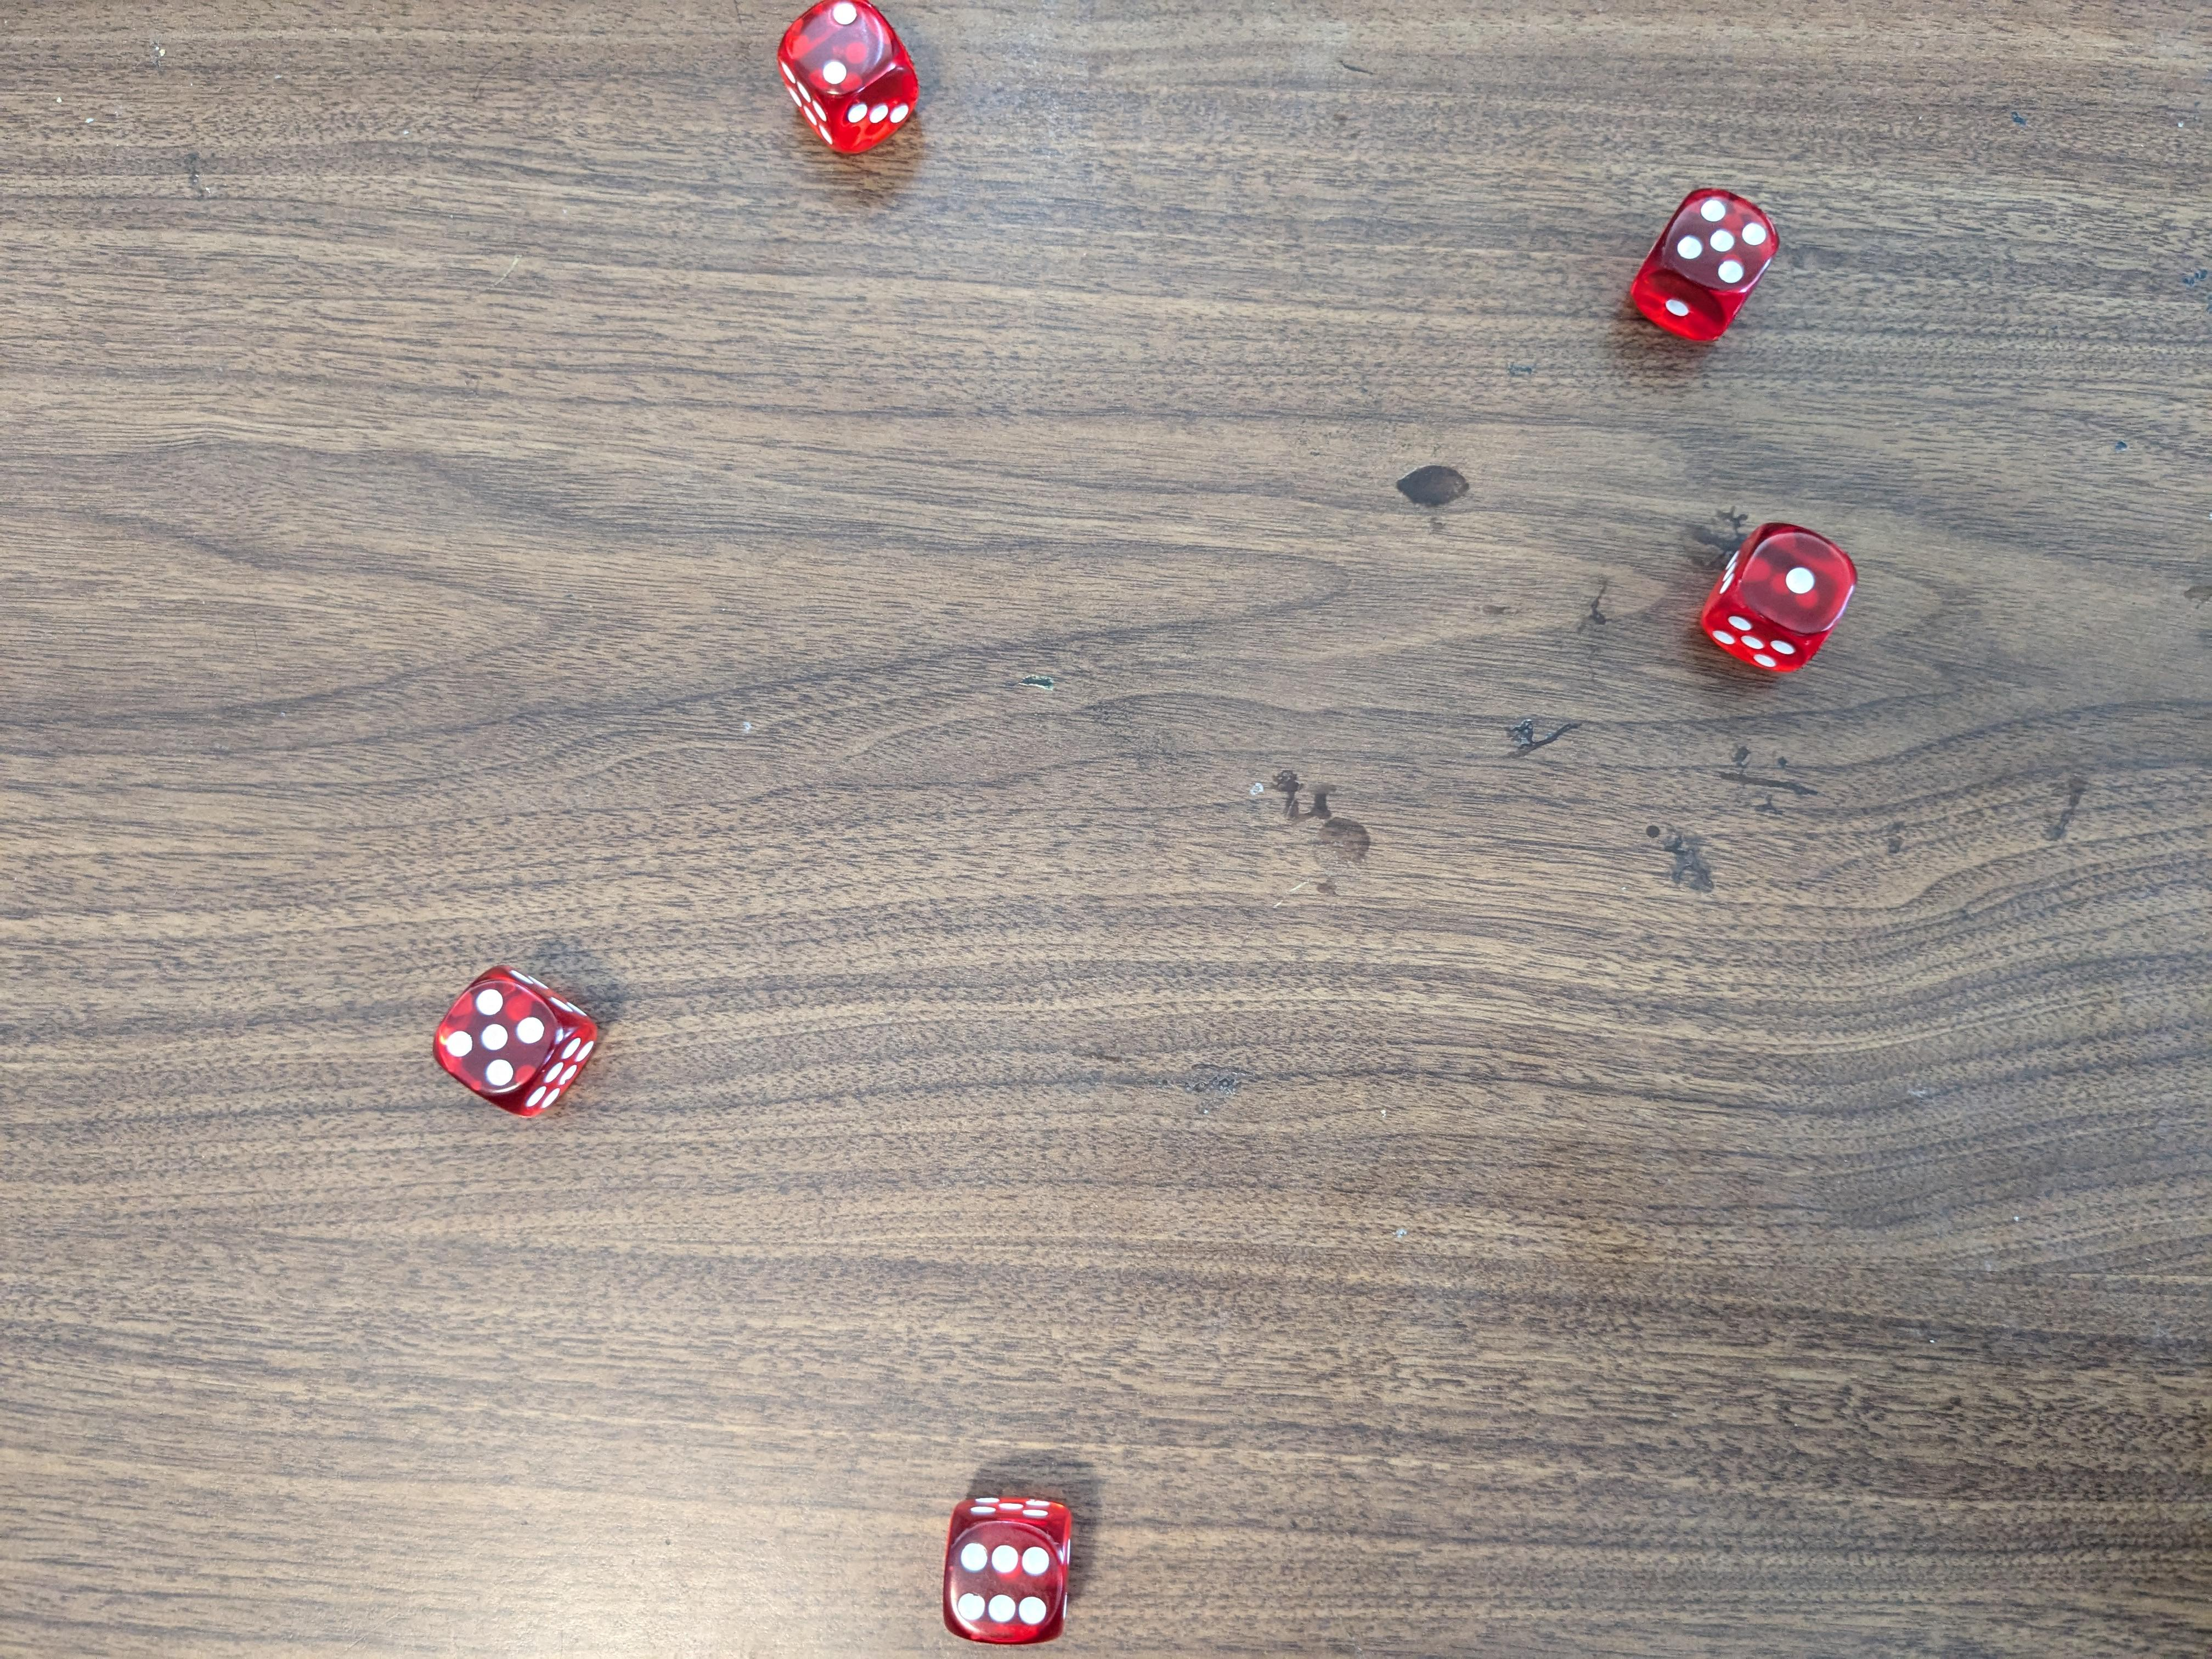five: (427, 962, 601, 1115), (1630, 185, 1785, 340)
one: (1702, 521, 1862, 674)
six: (937, 1493, 1080, 1649)
two: (770, 0, 928, 160)
